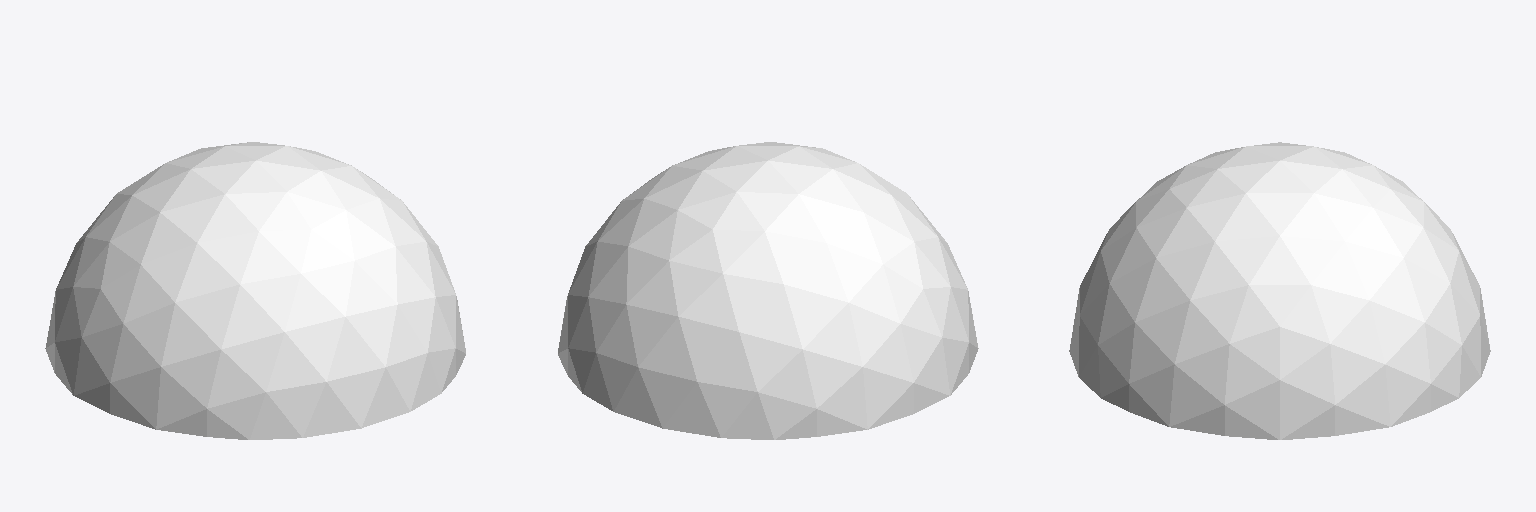
The model's file is sky.obj.
3 views of the same model, side by side, from view 1: azimuth 30°, elevation 25°; view 2: azimuth 150°, elevation 25°; view 3: azimuth 270°, elevation 25° (orthographic).
Parts seen in each view (by area): view 1: icosahedron10; view 2: icosahedron10; view 3: icosahedron10.
Boxes of the visible parts, <box> form: icosahedron10: <box>45,142,465,439</box>; icosahedron10: <box>558,142,978,439</box>; icosahedron10: <box>1069,142,1490,439</box>.
Size of the model in its own units: 2 by 1 by 2.